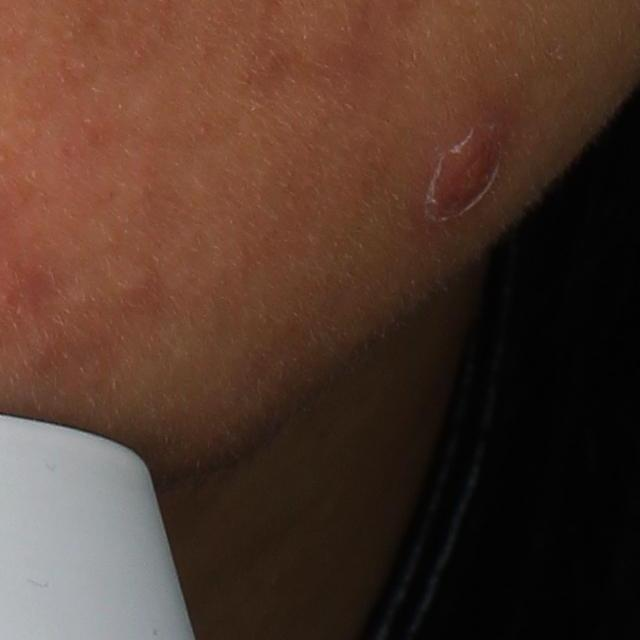papule: (418, 116, 506, 229)
